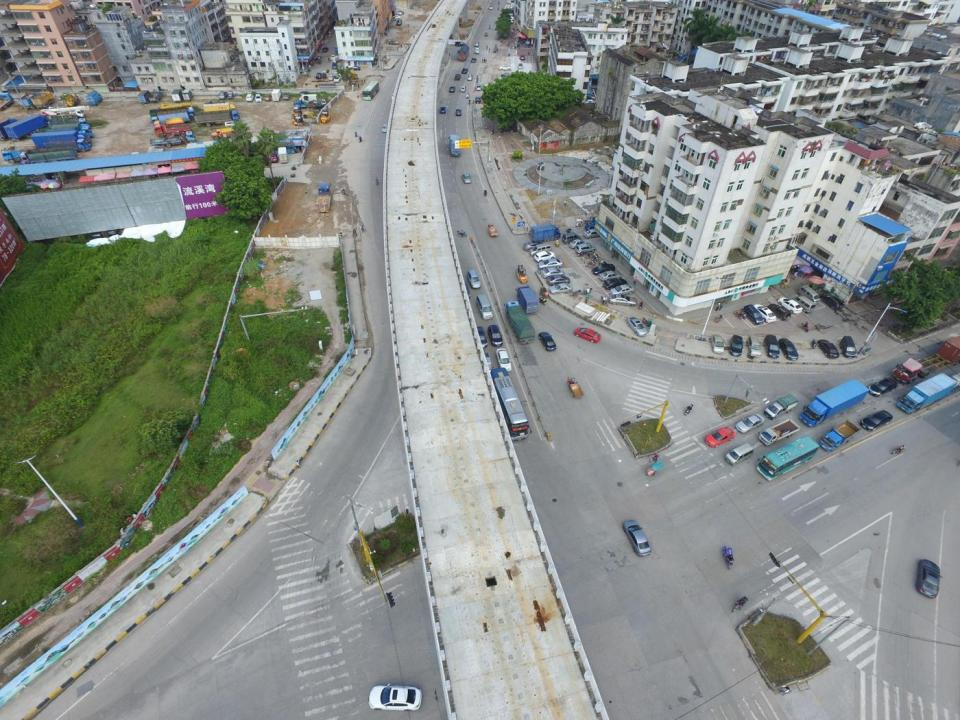bus: (489, 367, 531, 441), (362, 80, 379, 100)
car: (368, 685, 419, 713), (621, 520, 651, 557), (916, 559, 942, 598), (704, 426, 735, 448), (862, 410, 894, 431), (735, 414, 763, 434), (868, 378, 895, 396), (778, 338, 799, 361), (573, 327, 600, 344), (743, 304, 764, 325), (816, 339, 838, 359), (625, 317, 647, 336), (495, 348, 512, 372), (822, 292, 842, 311), (755, 304, 775, 323), (768, 303, 790, 320), (778, 298, 801, 314), (609, 294, 637, 307), (487, 324, 502, 347), (729, 335, 744, 357), (472, 326, 487, 348), (539, 332, 555, 351), (592, 263, 616, 275), (457, 279, 471, 298), (603, 278, 627, 289), (548, 283, 572, 294), (710, 334, 723, 354), (466, 271, 481, 288), (610, 284, 633, 295), (547, 275, 569, 286), (538, 260, 563, 269), (583, 228, 603, 239), (599, 272, 621, 281), (534, 252, 555, 261), (541, 270, 564, 278), (524, 241, 541, 251), (570, 239, 588, 248), (462, 173, 471, 184), (499, 64, 511, 70), (381, 123, 388, 133), (227, 90, 234, 99), (270, 153, 277, 162), (389, 40, 399, 46), (246, 94, 254, 101), (254, 94, 262, 101), (501, 73, 512, 78), (263, 94, 270, 101), (439, 106, 446, 113), (332, 76, 340, 82), (475, 96, 481, 104), (449, 86, 455, 93), (456, 108, 461, 116), (474, 48, 480, 54), (332, 62, 337, 69), (462, 68, 467, 74), (476, 85, 481, 91), (474, 40, 479, 46), (467, 75, 472, 81), (520, 54, 524, 61), (471, 58, 476, 63), (518, 64, 522, 69), (489, 5, 493, 10)
truck: (893, 309, 960, 386), (800, 380, 868, 430), (899, 372, 955, 412), (506, 300, 536, 344), (818, 419, 860, 450), (32, 130, 91, 152), (3, 114, 48, 141), (20, 147, 78, 166), (760, 419, 800, 445), (193, 108, 240, 127), (765, 393, 798, 420), (149, 130, 196, 148), (515, 286, 540, 316), (44, 137, 92, 152), (2, 145, 42, 162), (152, 108, 191, 125), (149, 106, 195, 120), (51, 123, 93, 138), (530, 224, 560, 244), (45, 128, 91, 141), (50, 118, 92, 130), (154, 123, 191, 136), (315, 183, 330, 214), (154, 116, 183, 132), (1, 119, 20, 142), (205, 102, 236, 115), (31, 92, 55, 108), (584, 215, 608, 231), (566, 377, 584, 398), (18, 92, 39, 109), (212, 127, 236, 140), (448, 134, 461, 157), (86, 91, 103, 106), (0, 91, 13, 110), (457, 44, 469, 62), (138, 90, 153, 103), (148, 91, 164, 103), (294, 100, 314, 109), (69, 109, 86, 119), (172, 89, 185, 102), (278, 147, 288, 163), (271, 88, 282, 101), (182, 89, 192, 101), (488, 224, 497, 237)
van: (725, 444, 753, 466), (838, 335, 856, 359), (476, 295, 494, 319), (798, 286, 820, 304), (794, 296, 815, 314), (763, 335, 779, 358), (746, 336, 762, 357), (476, 351, 492, 372), (529, 244, 552, 256), (576, 243, 595, 254), (563, 232, 580, 243), (224, 121, 237, 128), (218, 91, 228, 99), (460, 85, 466, 93), (316, 73, 322, 79), (454, 74, 460, 80), (327, 75, 334, 80), (321, 99, 326, 106)
